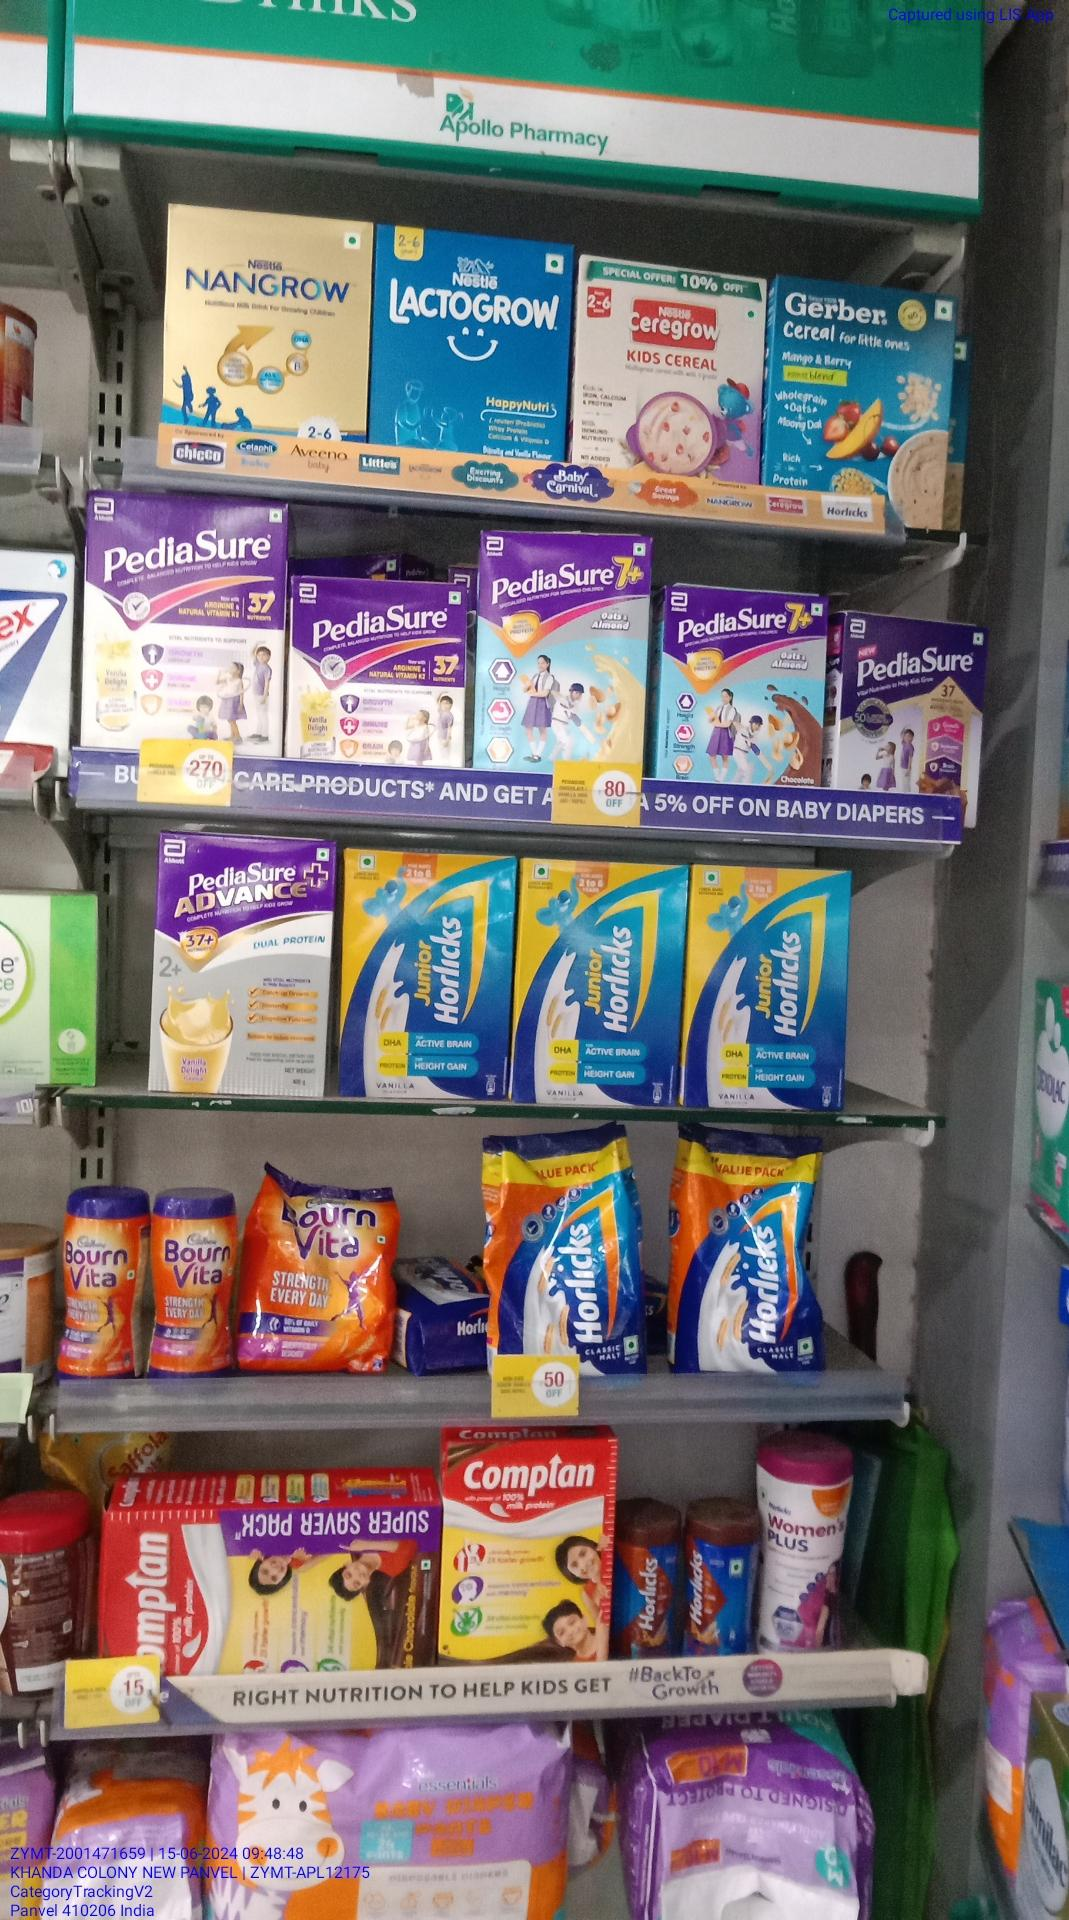BOURN_VITA_500_G_JAR: (151, 1190, 241, 1379), (59, 1194, 147, 1378)
BOURN_VITA_500_G_POUCH: (246, 1169, 407, 1377)
COMPLAN_CHOCOLATE_500_GMS_PACK: (440, 1432, 612, 1663)
HORLICK_CHOCOLATE_200_G_JAR: (682, 1505, 749, 1657), (619, 1507, 678, 1655)
HORLICK_CLASSIC_MALT_750_G_POUCH: (496, 1132, 642, 1382), (678, 1130, 816, 1373)
PEDIASURE_7_PLUS_CHOCOLATE_400_G_PACK: (660, 586, 825, 788)
PEDIASURE_CHOCOLATE_500_G_PACK: (837, 608, 986, 801)
